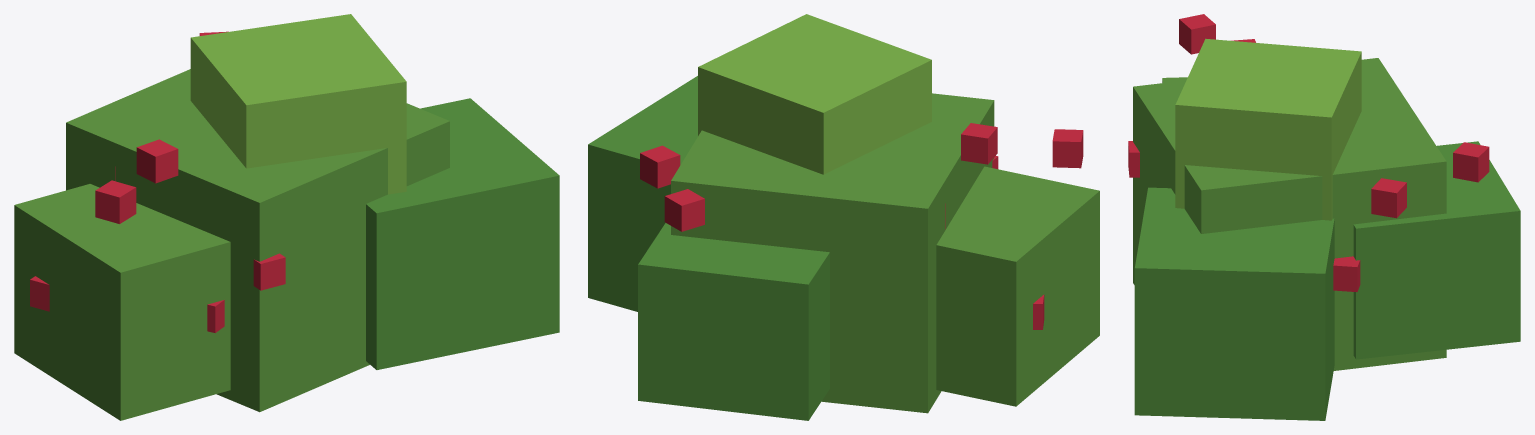
File: B09_bush_berry.obj
3 renders of one model, left to right at view 1: azimuth 30°, elevation 25°; view 2: azimuth 150°, elevation 25°; view 3: azimuth 270°, elevation 25°, orthographic. The views are drawn at different scales.
Parts seen in each view (by area): view 1: B09_bush_berry; view 2: B09_bush_berry; view 3: B09_bush_berry.
Part boxes in pixels (x1,y1,x2,y2): B09_bush_berry: [14, 14, 559, 420]; B09_bush_berry: [588, 14, 1099, 420]; B09_bush_berry: [1128, 14, 1520, 420].
Bounding box in the file's own units: 2.31 × 1.33 × 1.85.
